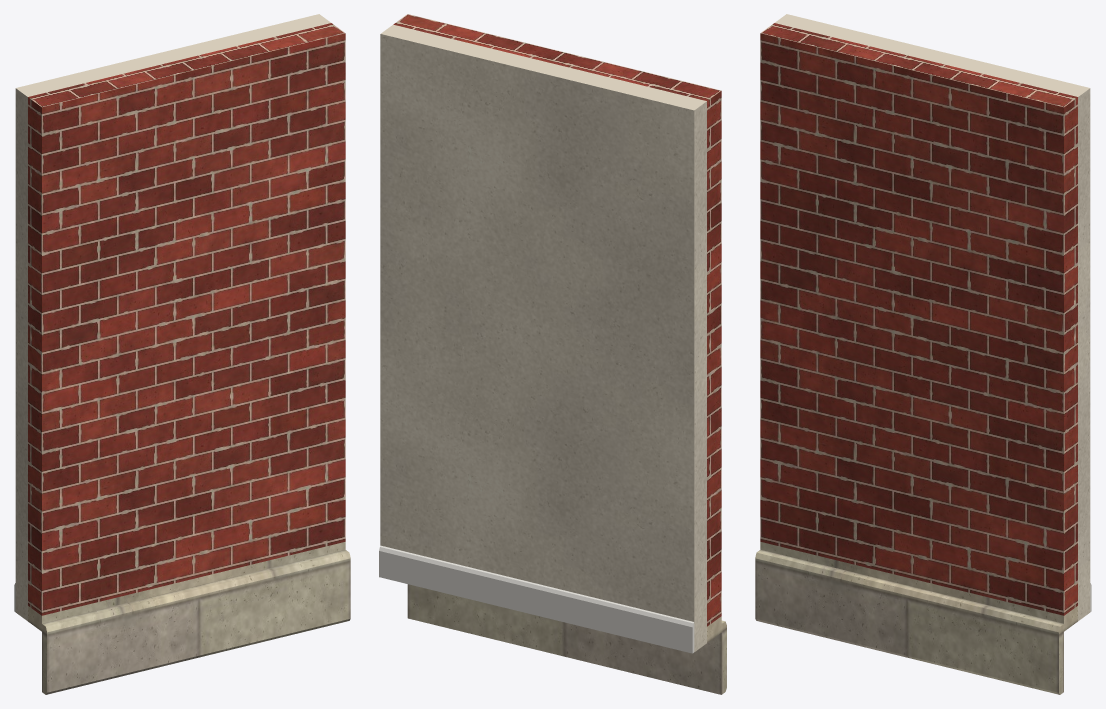
The model's file is w1_chim.glb.
The picture shows the model from 3 angles, left to right: view 1: azimuth 30°, elevation 25°; view 2: azimuth 150°, elevation 25°; view 3: azimuth 330°, elevation 25°; orthographic projection. The views are drawn at different scales.
Parts seen in each view (by area): view 1: w1_chim_brick, w1_chim_stone_t, w1_chim_plaster; view 2: w1_chim_plaster, w1_chim_brick, w1_chim_stone_t, w1_chim_trim; view 3: w1_chim_brick, w1_chim_stone_t, w1_chim_plaster.
Boxes of the visible parts, box(x1,y1,x2,y2) form: w1_chim_brick: box(28, 23, 345, 615); w1_chim_stone_t: box(28, 542, 350, 694); w1_chim_plaster: box(15, 14, 330, 621); w1_chim_plaster: box(380, 24, 706, 651); w1_chim_brick: box(393, 14, 721, 626); w1_chim_stone_t: box(407, 584, 726, 694); w1_chim_trim: box(379, 545, 694, 653); w1_chim_brick: box(760, 23, 1077, 615); w1_chim_stone_t: box(755, 542, 1077, 694); w1_chim_plaster: box(775, 14, 1090, 621).
Bounding box in the file's own units: 2 × 3.68 × 0.378.
4 materials, 3 textured.
